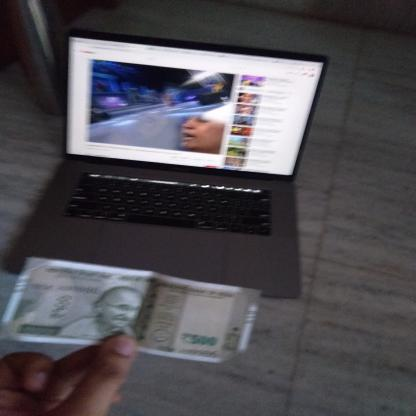New500Front: (9, 258, 258, 358)
